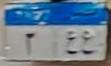3: (23, 27, 38, 57)
ع: (78, 25, 96, 59), (66, 26, 76, 59)
